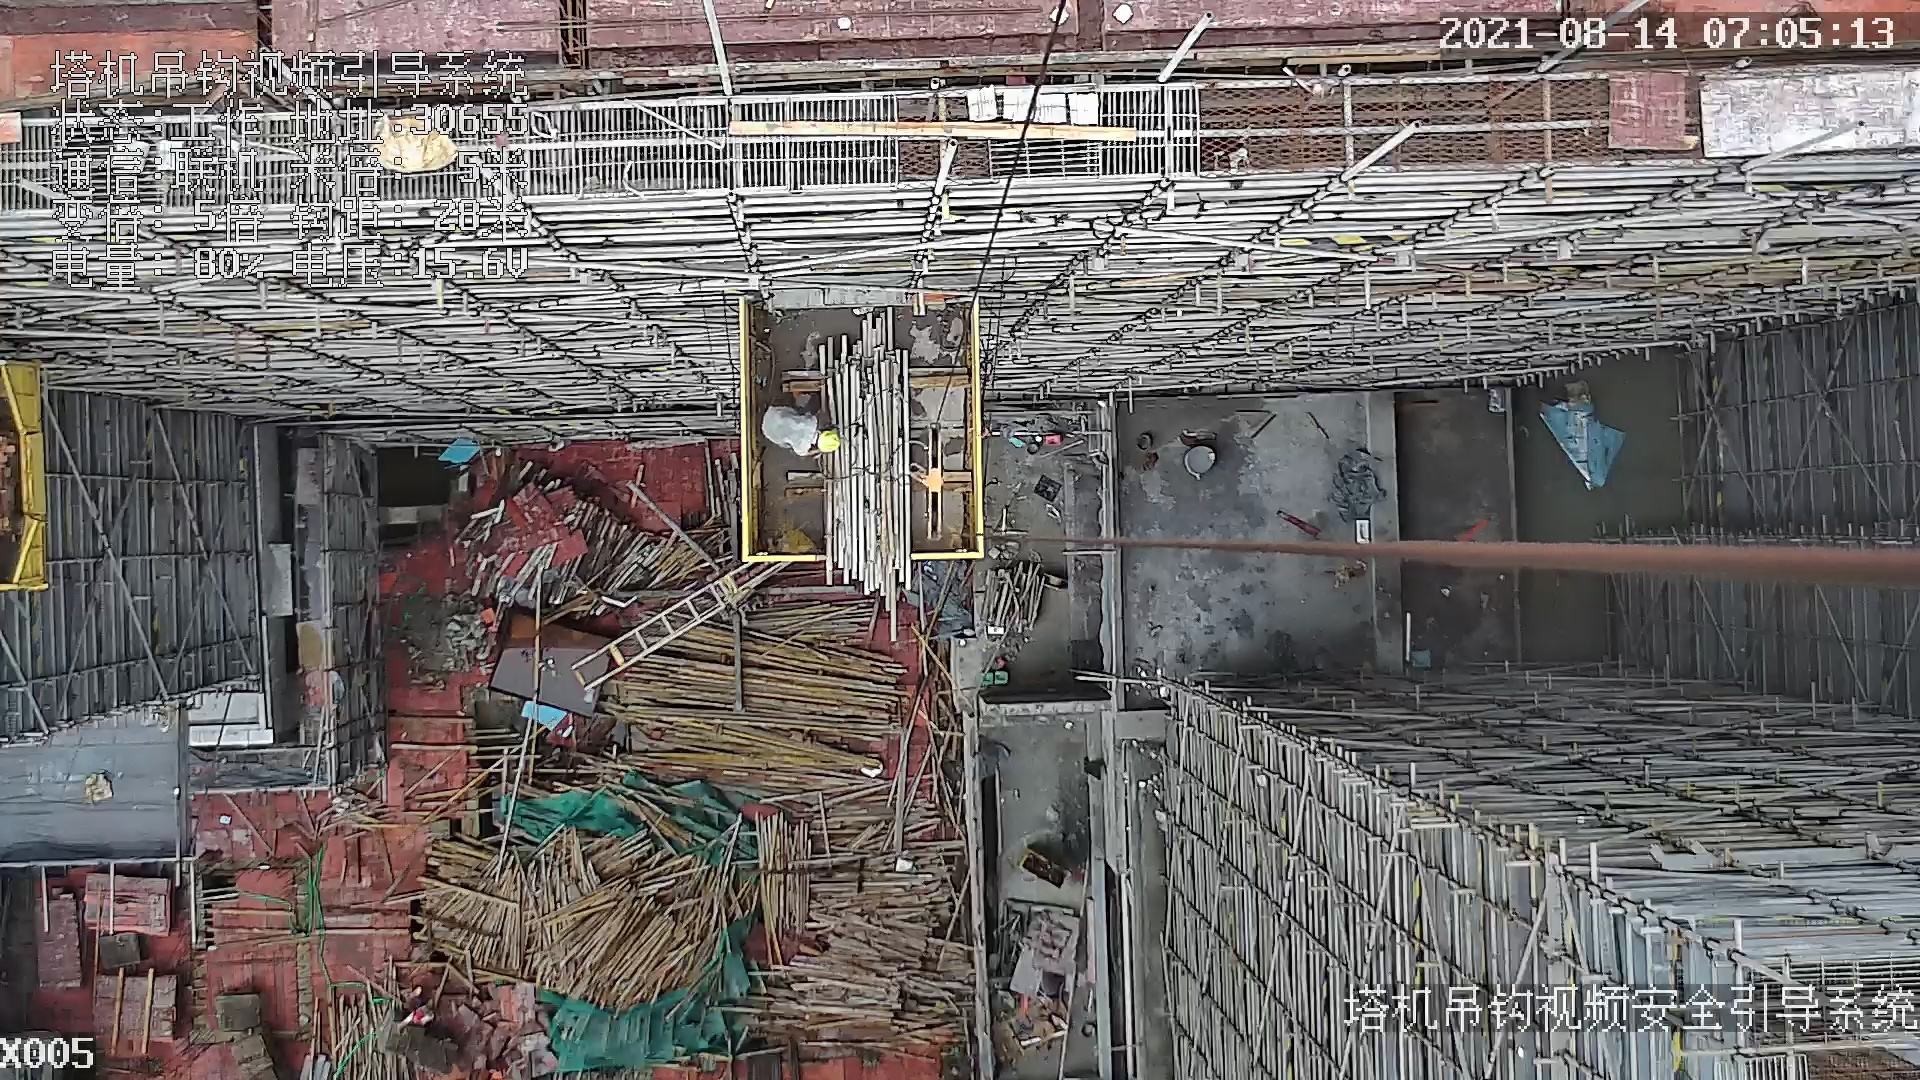helmet: (818, 426, 843, 453)
hook: (905, 419, 954, 545)
person: (756, 394, 847, 454)
